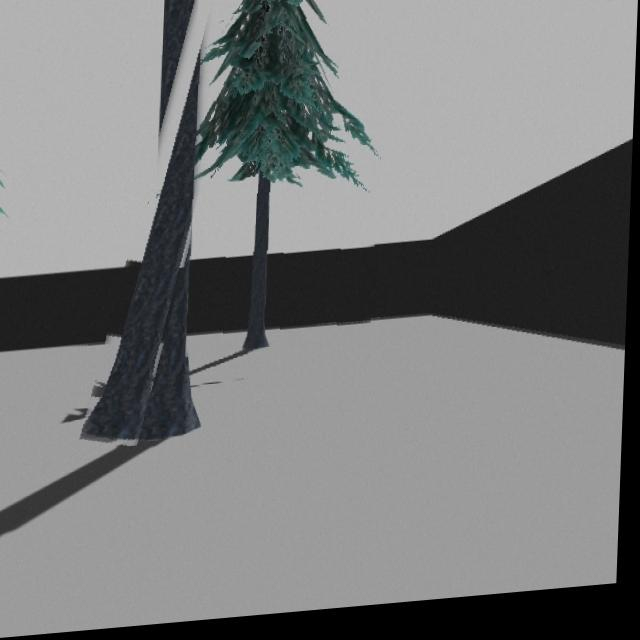tree: (85, 0, 249, 443), (196, 0, 381, 357)
